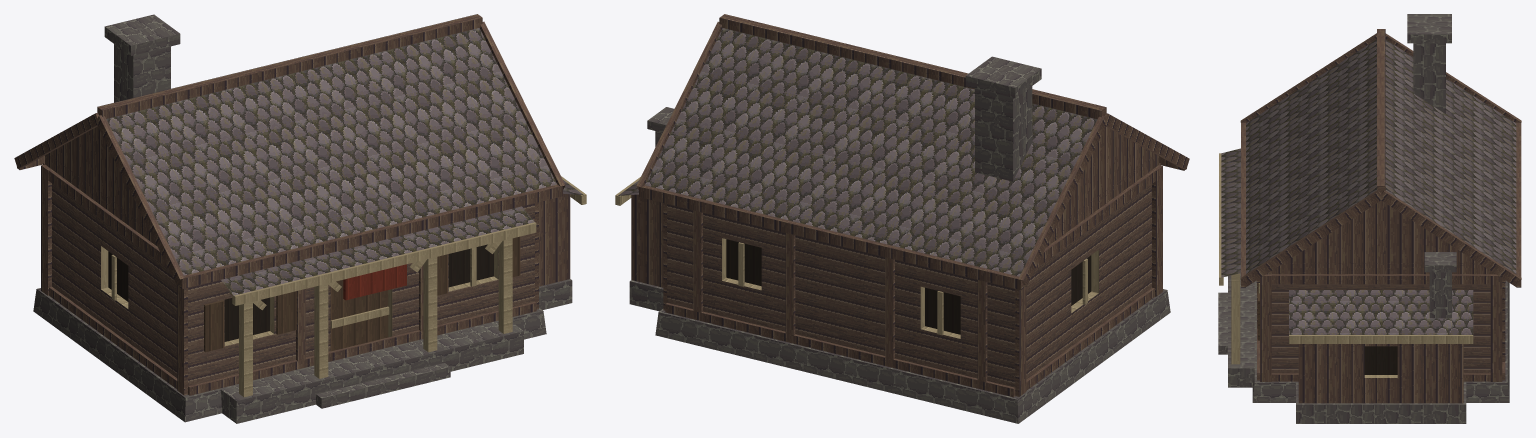
The model's file is tavern_stage2.glb.
3 renders of one model, left to right at view 1: azimuth 30°, elevation 25°; view 2: azimuth 150°, elevation 25°; view 3: azimuth 270°, elevation 25°, orthographic. The views are drawn at different scales.
Parts seen in each view (by area): view 1: tavern_stage2; view 2: tavern_stage2; view 3: tavern_stage2.
Boxes of the visible parts, x1,y1,x2,y2 form: tavern_stage2: (14,14,586,423); tavern_stage2: (615,14,1189,423); tavern_stage2: (1218,14,1521,423).
Bounding box in the file's own units: 8.78 × 5.8 × 6.26.
8 materials, 8 textured.
